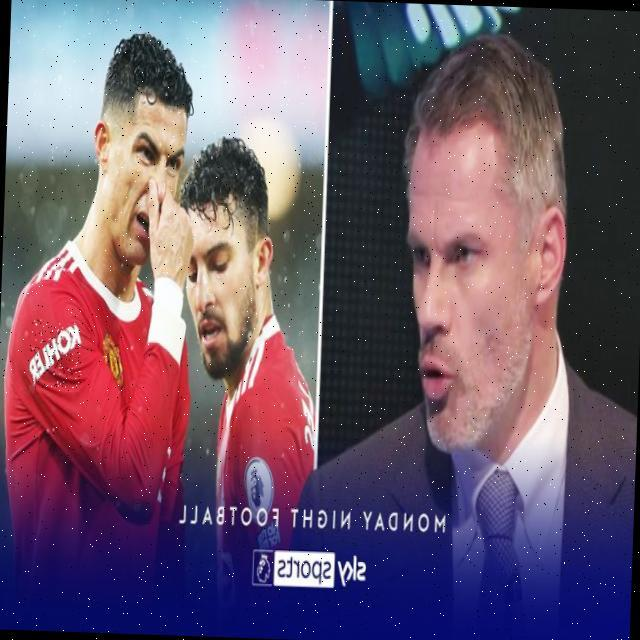Kohler: (28, 319, 84, 389)
